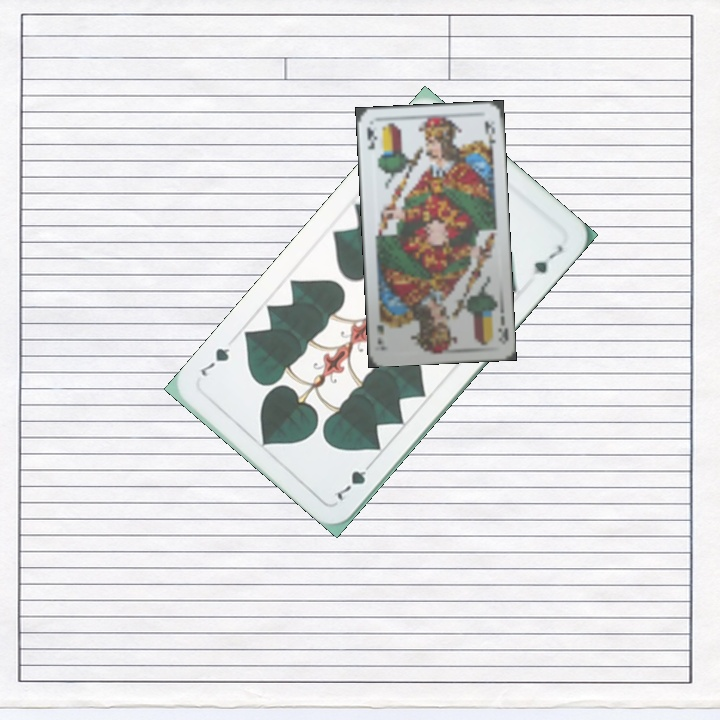EK: (494, 312, 511, 344), (362, 124, 380, 152)
G7: (333, 456, 377, 504)
